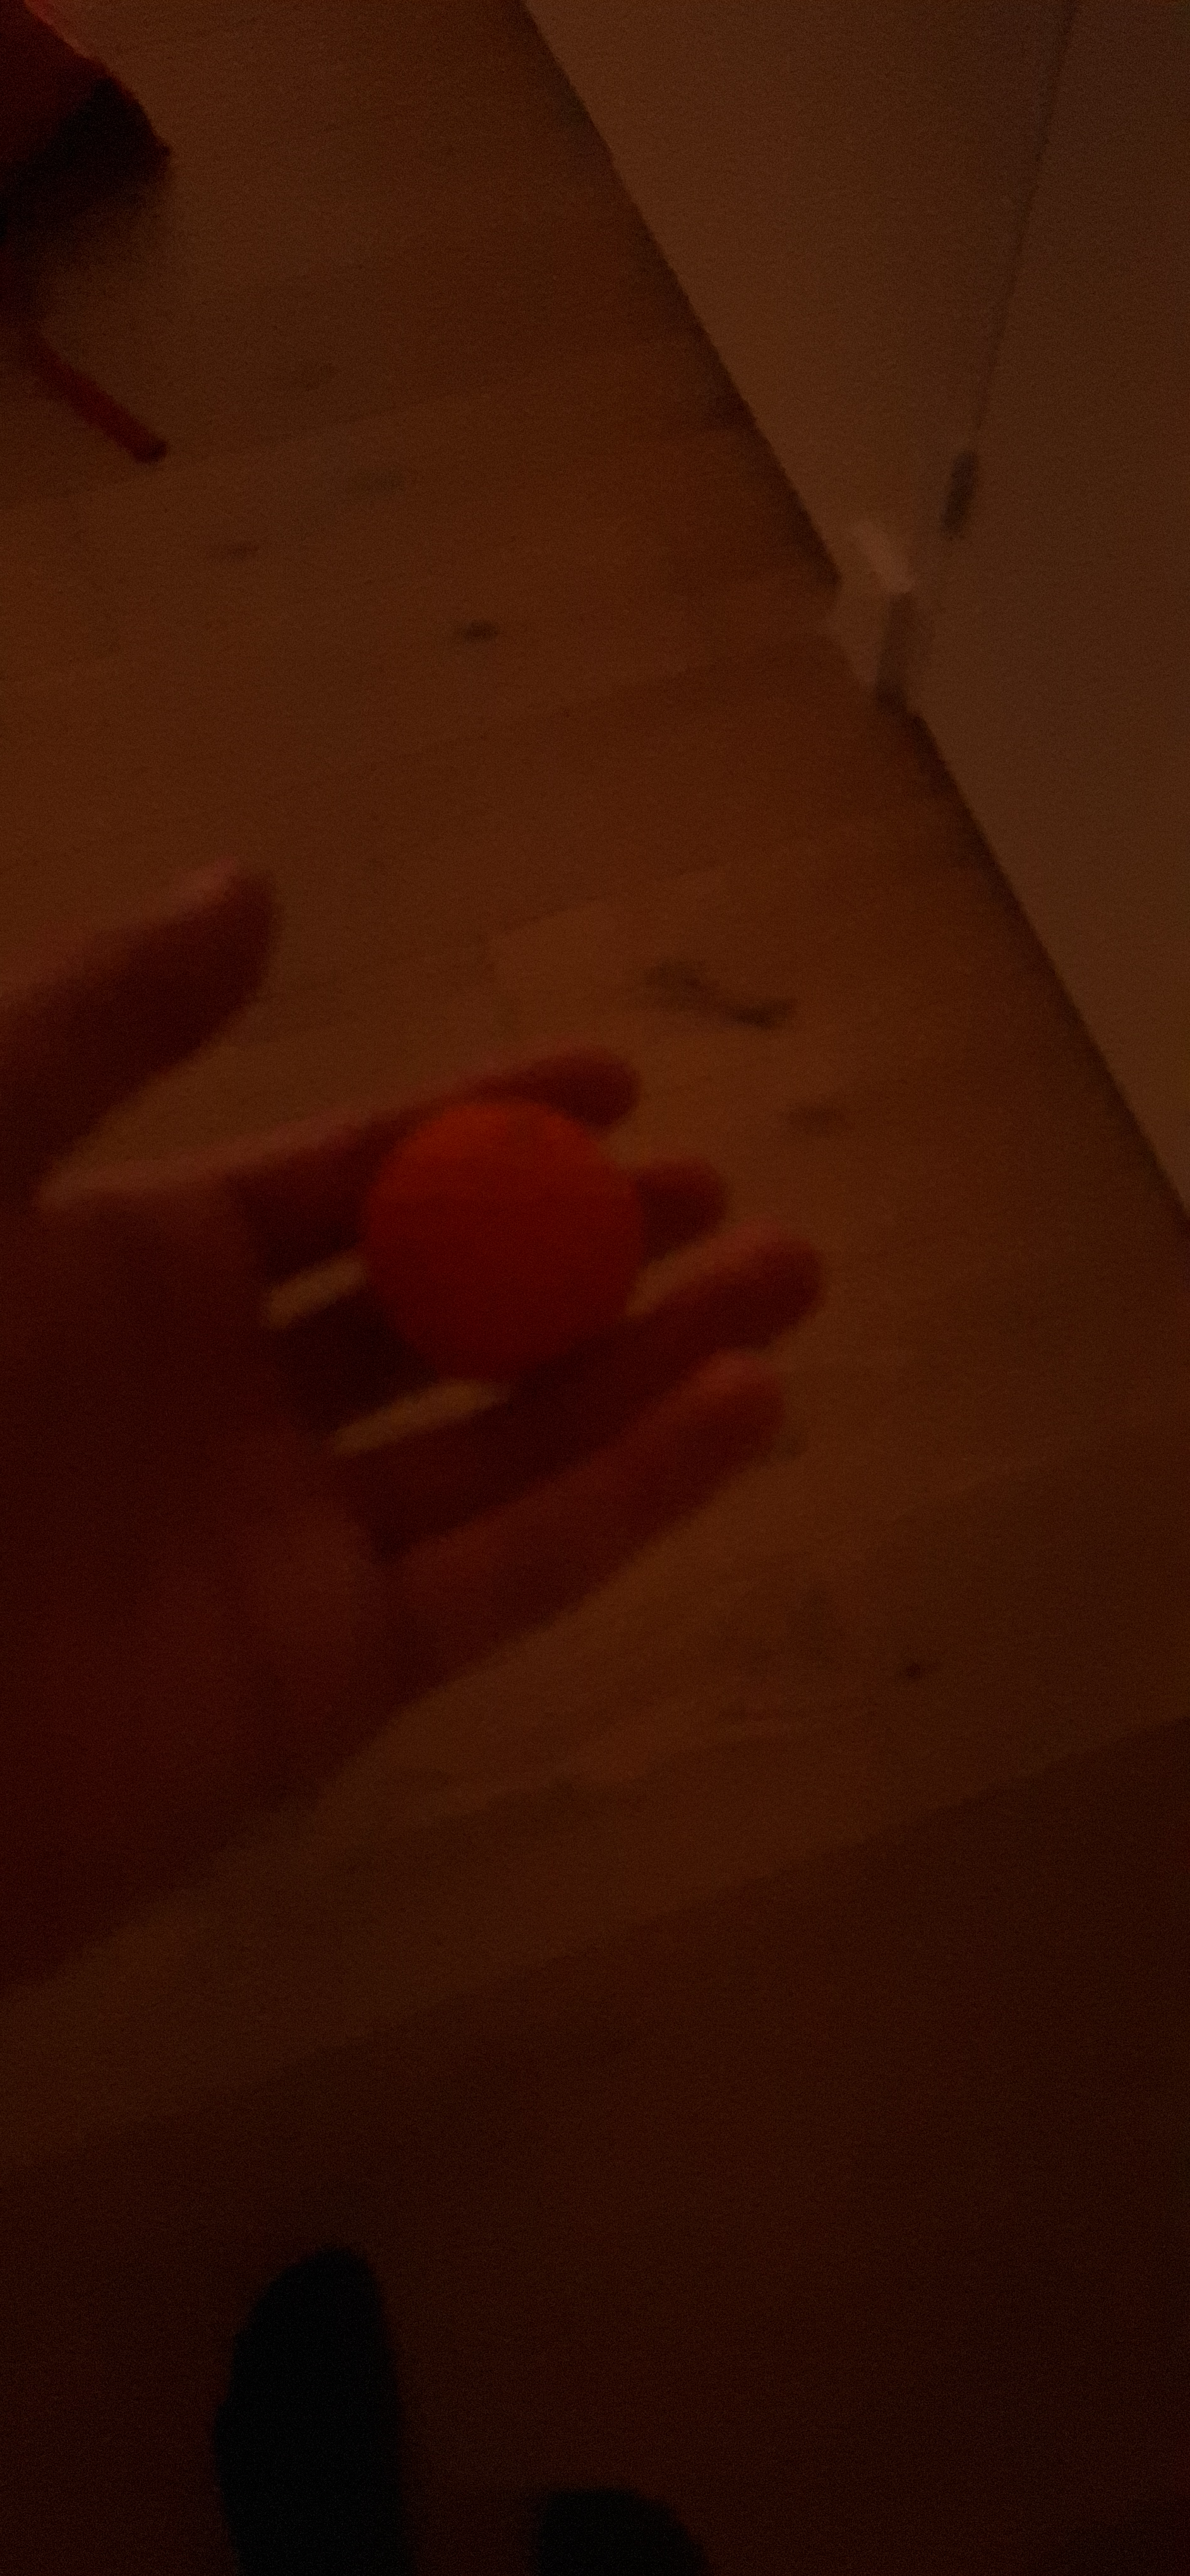ball: (506, 1207, 643, 1847)
